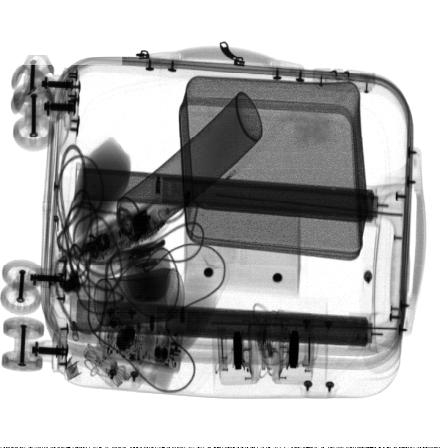Sprayer: (99, 91, 263, 258)
